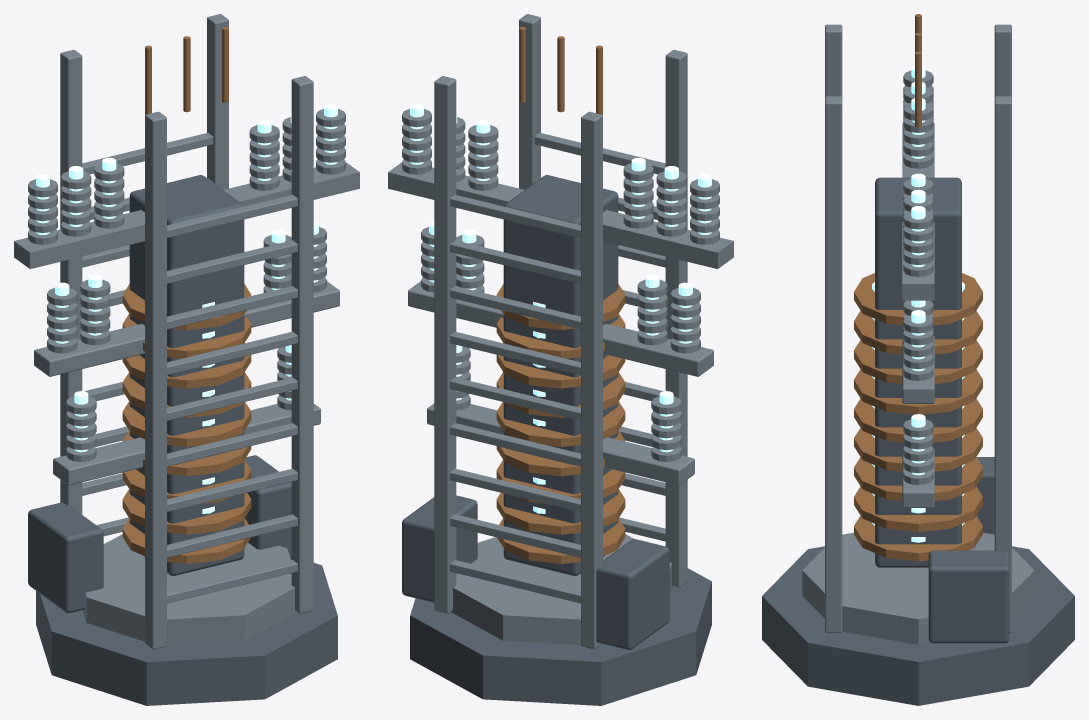
File: relay_t3_d0.glb
3 views of the same model, side by side, from view 1: azimuth 30°, elevation 25°; view 2: azimuth 150°, elevation 25°; view 3: azimuth 270°, elevation 25° (orthographic).
Parts seen in each view (by area): view 1: BASE_ARMOR_GEOMETRY, BASE_SIGNAL_GEOMETRY; view 2: BASE_ARMOR_GEOMETRY, BASE_SIGNAL_GEOMETRY; view 3: BASE_ARMOR_GEOMETRY, BASE_SIGNAL_GEOMETRY.
Part boxes in pixels (x1,y1,x2,y2): BASE_ARMOR_GEOMETRY: (14,14,359,705); BASE_SIGNAL_GEOMETRY: (36,103,337,513); BASE_ARMOR_GEOMETRY: (388,14,733,705); BASE_SIGNAL_GEOMETRY: (410,103,711,513); BASE_ARMOR_GEOMETRY: (762,14,1074,705); BASE_SIGNAL_GEOMETRY: (872,65,964,542).
Size of the model in its own units: 1.89 by 3.31 by 1.55.
